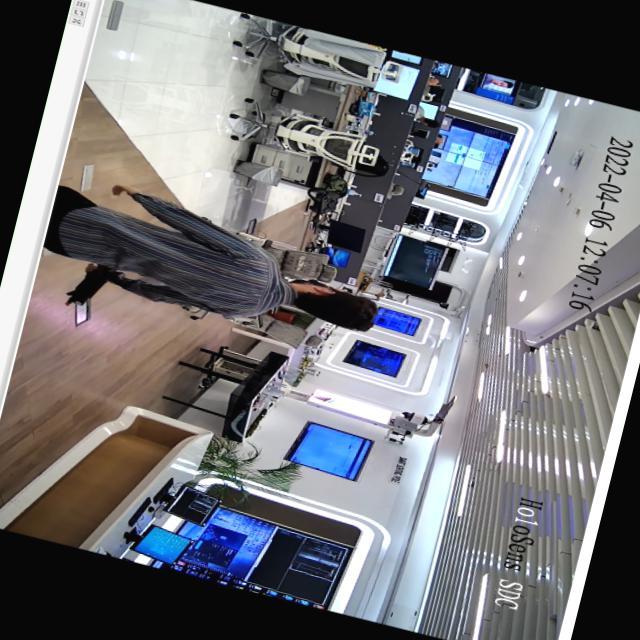long weapon: (54, 241, 134, 319)
